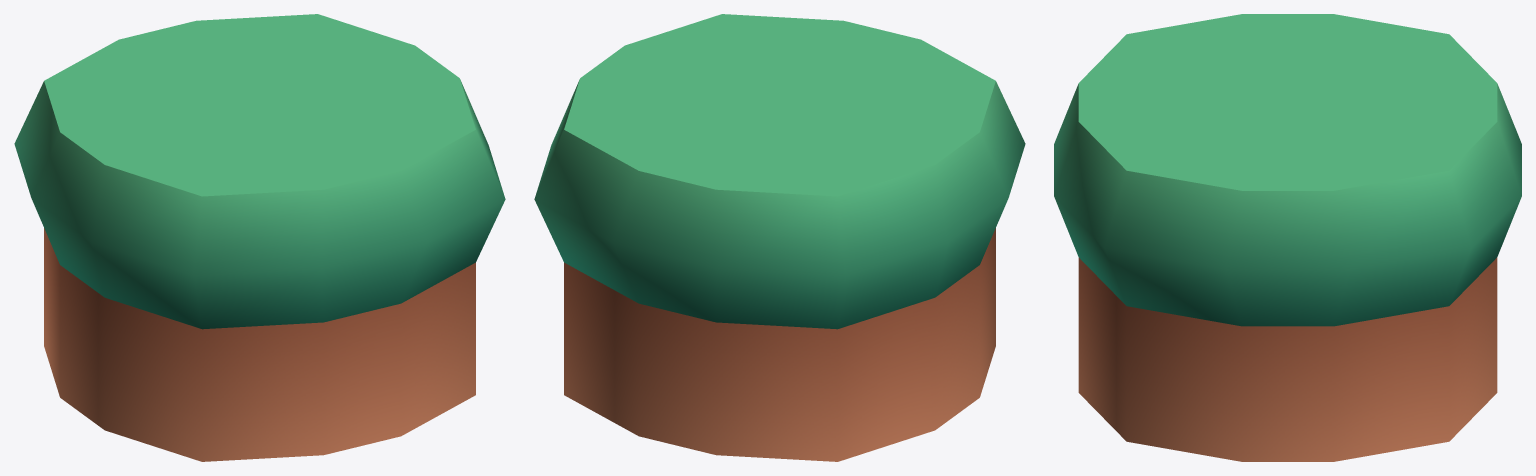
Rendered from block-grass-low-narrow.glb.
3 views of the same model, side by side, from view 1: azimuth 30°, elevation 25°; view 2: azimuth 150°, elevation 25°; view 3: azimuth 270°, elevation 25° (orthographic). The views are drawn at different scales.
Parts seen in each view (by area): view 1: block-grass-low-narrow; view 2: block-grass-low-narrow; view 3: block-grass-low-narrow.
Boxes of the visible parts, box(x1,y1,x2,y2) form: block-grass-low-narrow: box(14, 14, 505, 461); block-grass-low-narrow: box(534, 14, 1025, 461); block-grass-low-narrow: box(1054, 14, 1521, 461).
Bounding box in the file's own units: 0.7821 × 0.5 × 0.7821.
Materials: 1 (1 with a texture image).
